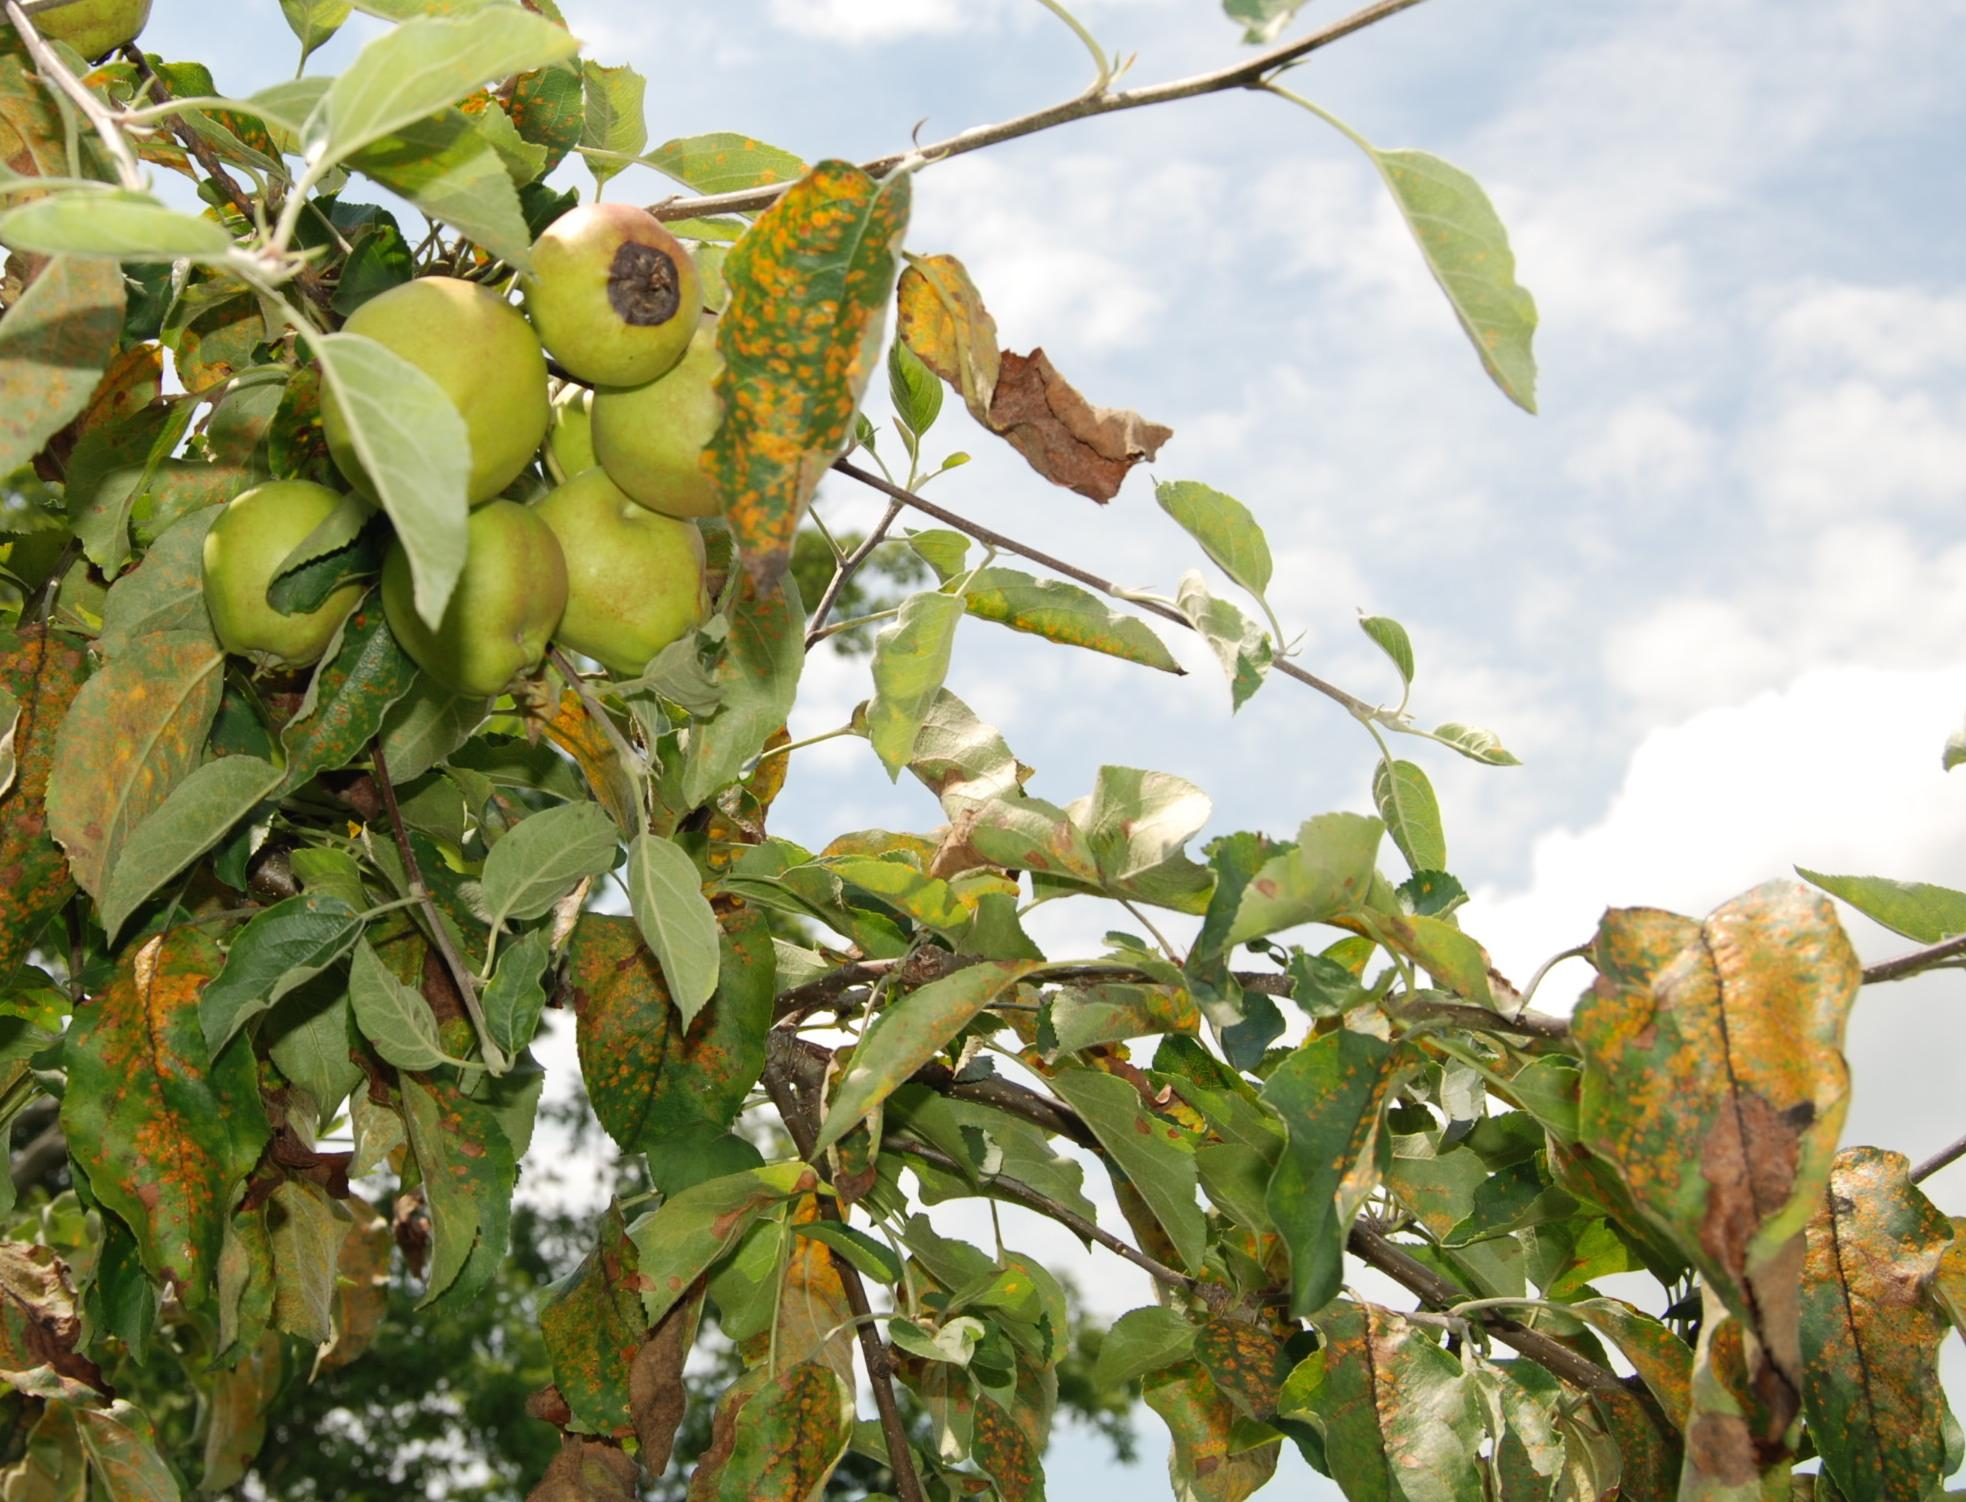Apple rust leaf: (1535, 839, 1867, 1298), (43, 926, 284, 1346), (712, 163, 921, 634), (1180, 1194, 1488, 1502), (579, 861, 795, 1216), (35, 618, 270, 931), (1785, 1153, 1960, 1502), (502, 1179, 701, 1474), (718, 1346, 839, 1502), (937, 1388, 1067, 1502)
